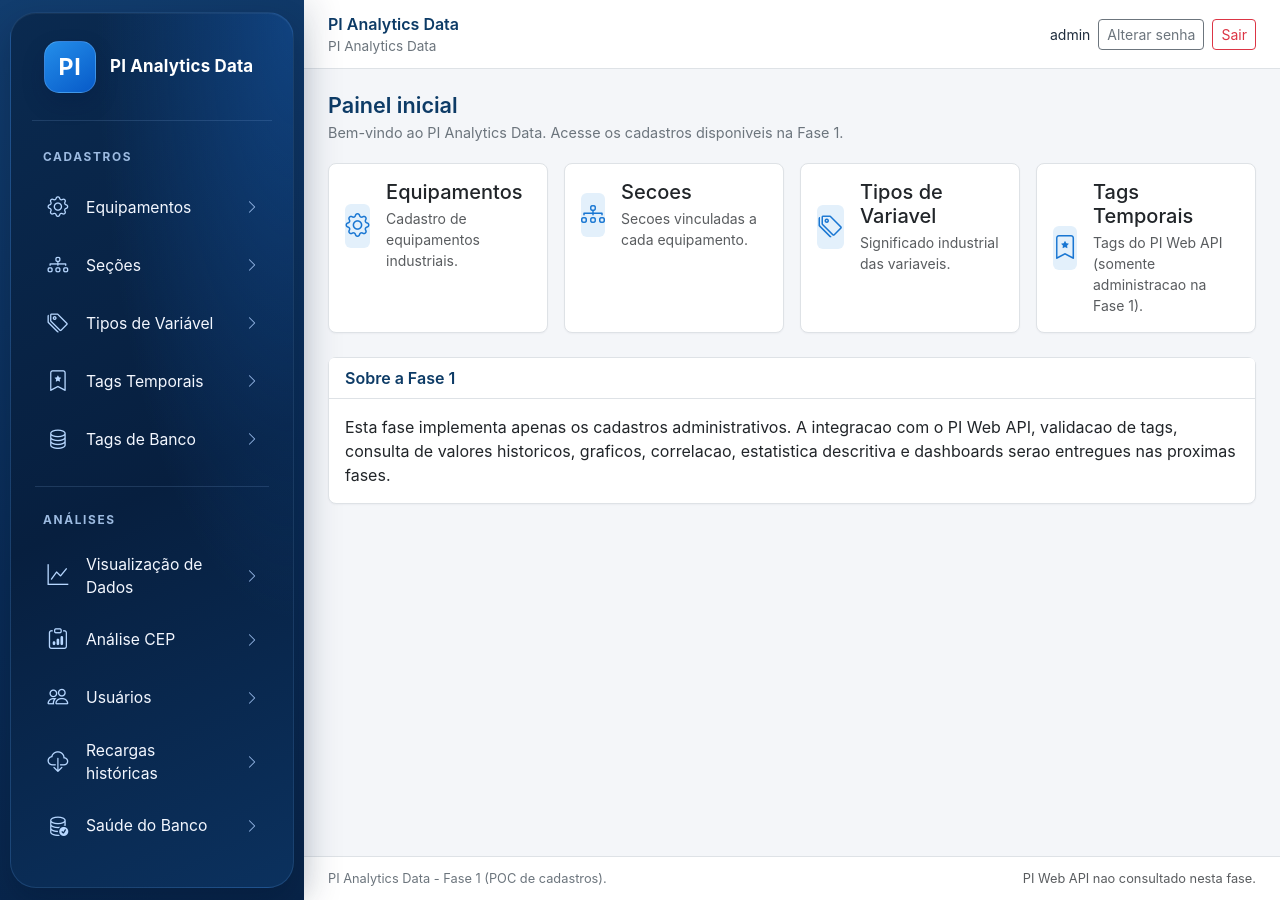
Test: autenticação local › logout limpa estado e não consulta ou cancela no PI
Click the button "Sair": click(1234, 34) [1212,19,1256,50]
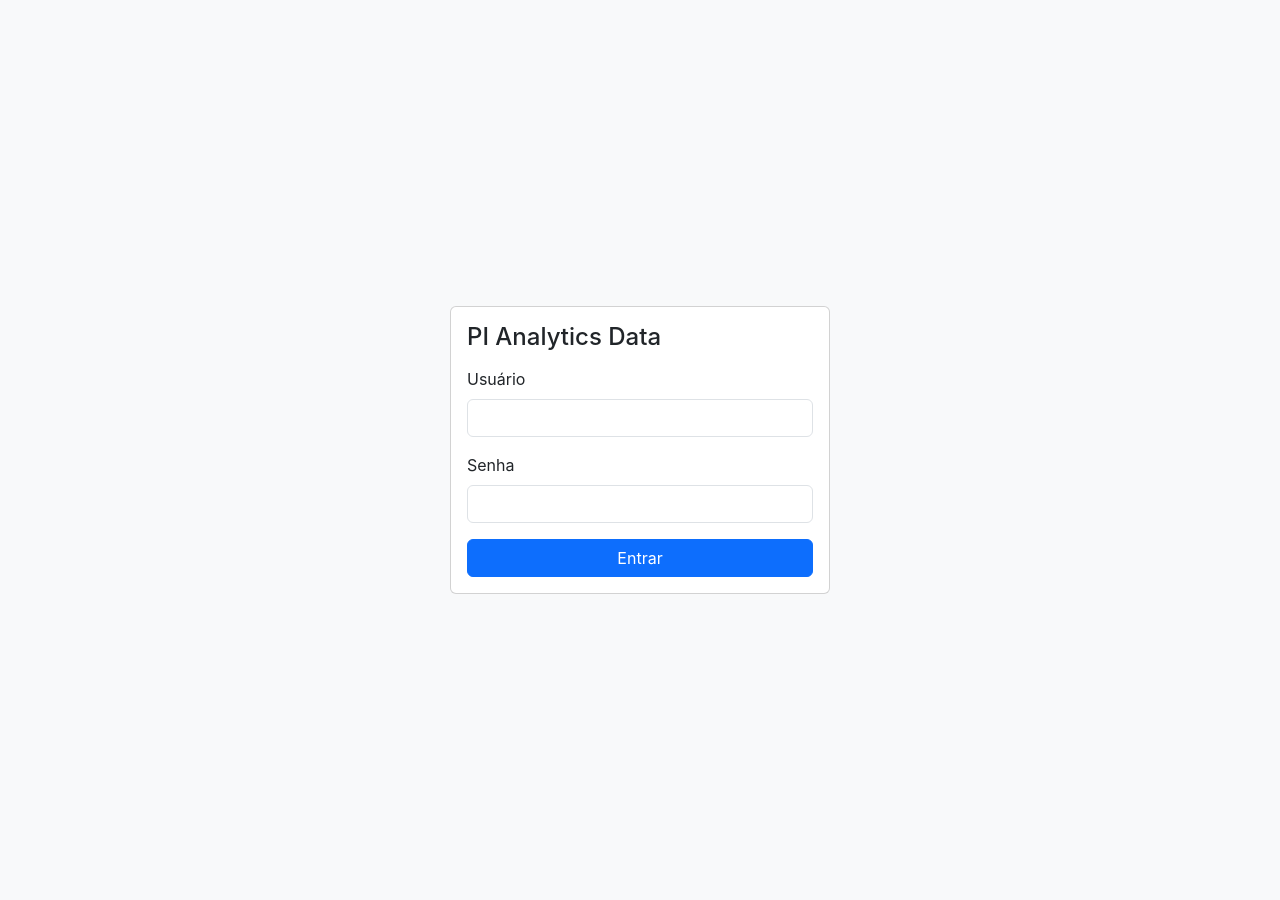
Check: the button with test id "login-submit" is shown, box [467,539,813,577]
